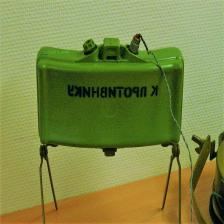MOH-50: (29, 37, 189, 224)
